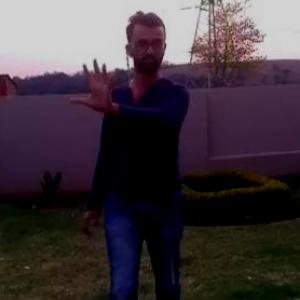follow_hand: (68, 55, 120, 111)
